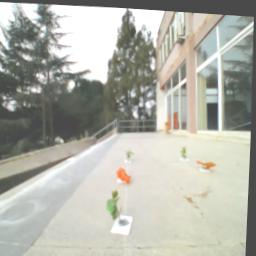herb: (107, 187, 128, 227), (181, 143, 190, 158), (127, 148, 136, 160)
wild: (198, 155, 220, 170), (117, 165, 134, 184)
